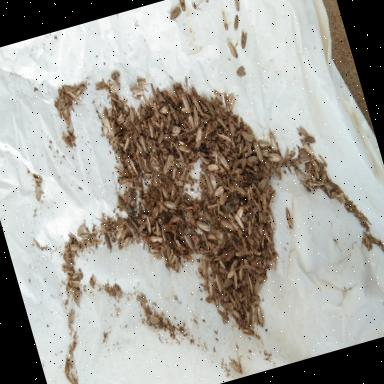pbw: (282, 206, 296, 237), (214, 148, 231, 173), (266, 128, 282, 154), (298, 135, 316, 158), (292, 164, 310, 186), (220, 88, 234, 116), (250, 140, 266, 164), (236, 28, 252, 50), (279, 144, 295, 166), (202, 170, 216, 195), (98, 111, 112, 135), (260, 223, 274, 247), (226, 38, 240, 62), (264, 188, 280, 208), (266, 206, 278, 232), (70, 285, 84, 307), (184, 206, 198, 228), (202, 95, 216, 117), (226, 211, 240, 233), (250, 305, 264, 327), (219, 216, 236, 234), (120, 185, 136, 204), (191, 124, 206, 144), (198, 257, 210, 281), (196, 242, 214, 258), (128, 82, 146, 98), (194, 216, 210, 234), (361, 228, 374, 250), (233, 178, 247, 198), (232, 212, 246, 232), (60, 260, 76, 277), (368, 231, 384, 248), (116, 234, 133, 250), (162, 196, 178, 213), (71, 83, 88, 99), (210, 223, 225, 241), (214, 111, 228, 130), (220, 8, 232, 30), (230, 268, 242, 290), (180, 94, 192, 116), (61, 358, 74, 378), (255, 176, 271, 192), (216, 232, 231, 249), (112, 225, 127, 242), (245, 271, 255, 296), (127, 212, 140, 231), (60, 132, 73, 151), (166, 183, 179, 202), (128, 154, 138, 178), (256, 304, 266, 328), (62, 81, 78, 96), (167, 102, 179, 122), (216, 189, 230, 206), (230, 14, 243, 32), (68, 270, 86, 283), (136, 152, 148, 171), (320, 182, 332, 201), (168, 89, 180, 108), (304, 176, 320, 190), (220, 296, 234, 312), (298, 152, 312, 168), (266, 150, 282, 164), (216, 306, 230, 322), (240, 127, 254, 143), (148, 232, 164, 246), (74, 224, 88, 240), (260, 184, 274, 200), (233, 63, 247, 79), (240, 324, 256, 338), (149, 202, 162, 219), (267, 252, 280, 269), (233, 295, 244, 315), (142, 214, 153, 234), (250, 194, 262, 212), (226, 93, 238, 111), (116, 192, 128, 210), (202, 207, 214, 225), (270, 162, 282, 180), (150, 168, 162, 186), (150, 150, 162, 168), (232, 286, 244, 304), (310, 155, 322, 173), (152, 101, 162, 122), (119, 113, 133, 128), (212, 273, 222, 294), (212, 184, 226, 199), (217, 130, 231, 145), (177, 164, 190, 180), (235, 204, 248, 220), (120, 134, 133, 150), (190, 230, 202, 247), (234, 140, 246, 157), (158, 222, 168, 242), (244, 218, 255, 236), (164, 243, 175, 261), (243, 137, 254, 155), (210, 136, 221, 154), (220, 276, 234, 290), (296, 146, 310, 160), (178, 142, 192, 156), (148, 240, 162, 254), (316, 170, 330, 184), (288, 156, 302, 170), (246, 153, 260, 167), (212, 88, 224, 104), (156, 197, 168, 213), (167, 214, 183, 226), (210, 252, 226, 264), (198, 172, 208, 191), (182, 231, 192, 250), (168, 163, 179, 180), (226, 119, 237, 136), (176, 0, 189, 14), (249, 256, 262, 270), (134, 140, 144, 158), (146, 120, 156, 138), (103, 232, 112, 252), (138, 134, 148, 152), (228, 292, 238, 310), (172, 256, 182, 274), (109, 95, 118, 115), (136, 104, 148, 119), (175, 144, 185, 162), (168, 250, 179, 266), (236, 266, 247, 282), (213, 198, 223, 215), (258, 233, 268, 250), (160, 184, 170, 201), (169, 125, 182, 138), (154, 130, 166, 144), (164, 152, 176, 166), (257, 138, 271, 150), (116, 174, 130, 186), (304, 169, 316, 183), (251, 278, 263, 292), (114, 110, 126, 124), (106, 132, 120, 144), (260, 146, 274, 158), (172, 194, 184, 208), (230, 156, 241, 171), (212, 290, 221, 308), (206, 280, 215, 298), (174, 238, 184, 254), (156, 88, 166, 104), (202, 232, 210, 252), (135, 76, 148, 88), (224, 248, 237, 260), (149, 188, 162, 200), (206, 162, 219, 174), (329, 187, 342, 199), (204, 250, 216, 263), (161, 161, 172, 175), (231, 306, 242, 320), (205, 200, 219, 211), (68, 278, 82, 289), (153, 220, 162, 237), (186, 231, 195, 248), (182, 150, 192, 165), (127, 108, 137, 123), (254, 188, 264, 203), (244, 186, 253, 202), (206, 231, 218, 243), (158, 106, 170, 118), (190, 147, 202, 159), (183, 250, 195, 262), (204, 294, 216, 306), (228, 258, 240, 270), (161, 221, 173, 233), (328, 178, 340, 190), (231, 0, 243, 12), (238, 156, 248, 170), (246, 306, 256, 320), (254, 226, 262, 243), (166, 231, 174, 248), (207, 148, 218, 160), (246, 233, 256, 246), (200, 153, 210, 166), (182, 195, 192, 208), (182, 168, 192, 181), (234, 111, 242, 127), (264, 164, 272, 180), (210, 95, 219, 109), (230, 237, 239, 251), (110, 70, 121, 81), (218, 265, 229, 276), (225, 267, 236, 278), (244, 309, 252, 324), (186, 158, 198, 168), (174, 176, 184, 188), (246, 166, 256, 178), (379, 241, 384, 265), (254, 170, 266, 180), (180, 124, 192, 134), (148, 96, 156, 111), (242, 283, 250, 298), (170, 227, 179, 240), (230, 136, 237, 152), (220, 174, 228, 188), (243, 294, 250, 310), (240, 260, 250, 271), (157, 118, 166, 130), (256, 221, 264, 234), (191, 0, 208, 6), (144, 170, 154, 180), (252, 164, 262, 174), (179, 188, 186, 202), (225, 172, 232, 186), (235, 132, 243, 144), (234, 249, 244, 258), (226, 182, 234, 193), (153, 252, 164, 260), (222, 293, 231, 302), (200, 150, 208, 160), (254, 266, 264, 274), (148, 114, 158, 122), (178, 138, 186, 148), (254, 247, 262, 256), (248, 184, 254, 196), (185, 256, 194, 264), (153, 118, 160, 128), (252, 182, 259, 192)
